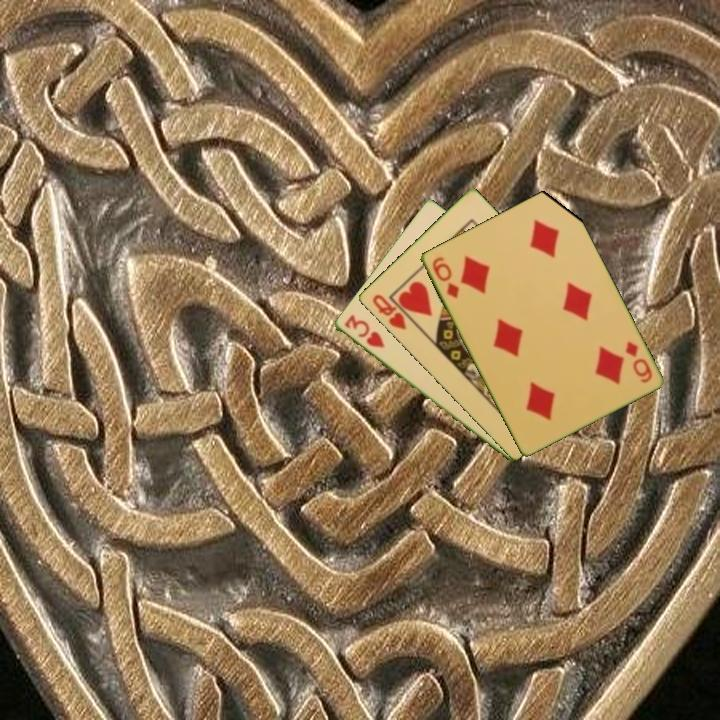3h: (340, 311, 387, 351)
6d: (621, 337, 655, 386), (428, 253, 462, 301)
Qh: (368, 291, 409, 333)
